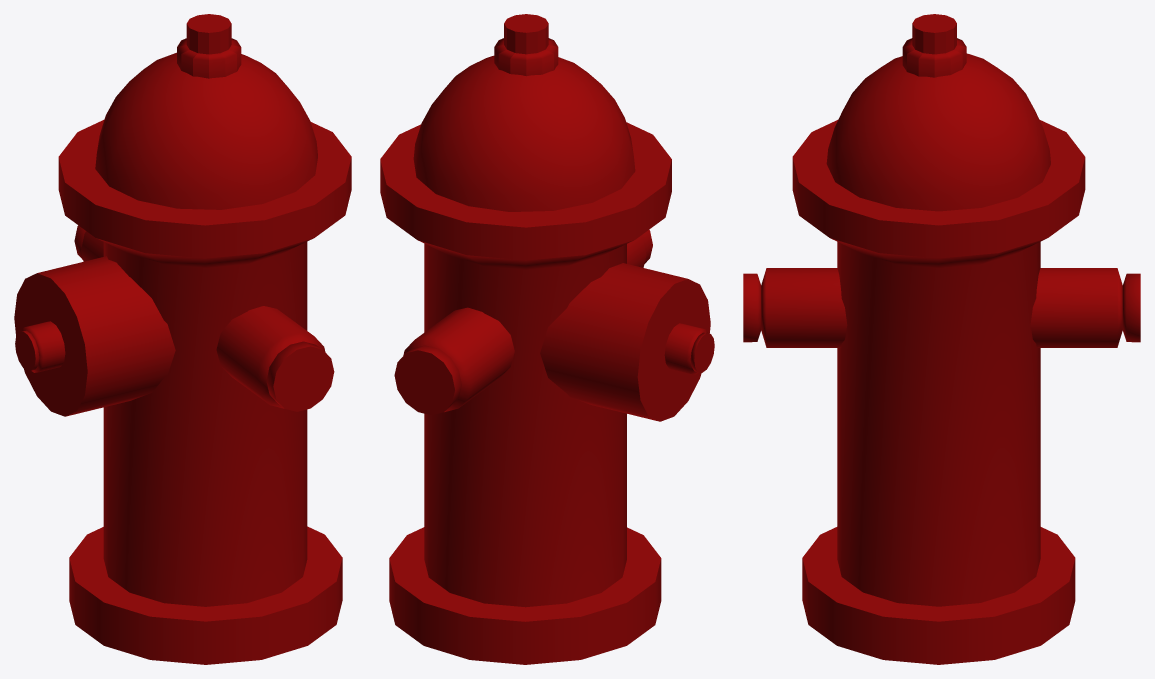
Rendered from FireHydrant.fbx.
3 views of the same model, side by side, from view 1: azimuth 30°, elevation 25°; view 2: azimuth 150°, elevation 25°; view 3: azimuth 270°, elevation 25° (orthographic).
Visible parts, largest first — view 1: FireHydrant; view 2: FireHydrant; view 3: FireHydrant.
Part boxes in pixels (box(x1,y1,x2,y2)): FireHydrant: box(14, 14, 351, 664); FireHydrant: box(380, 14, 714, 664); FireHydrant: box(743, 14, 1140, 664).
Bounding box in the file's own units: 11.03 × 20.06 × 12.37.
